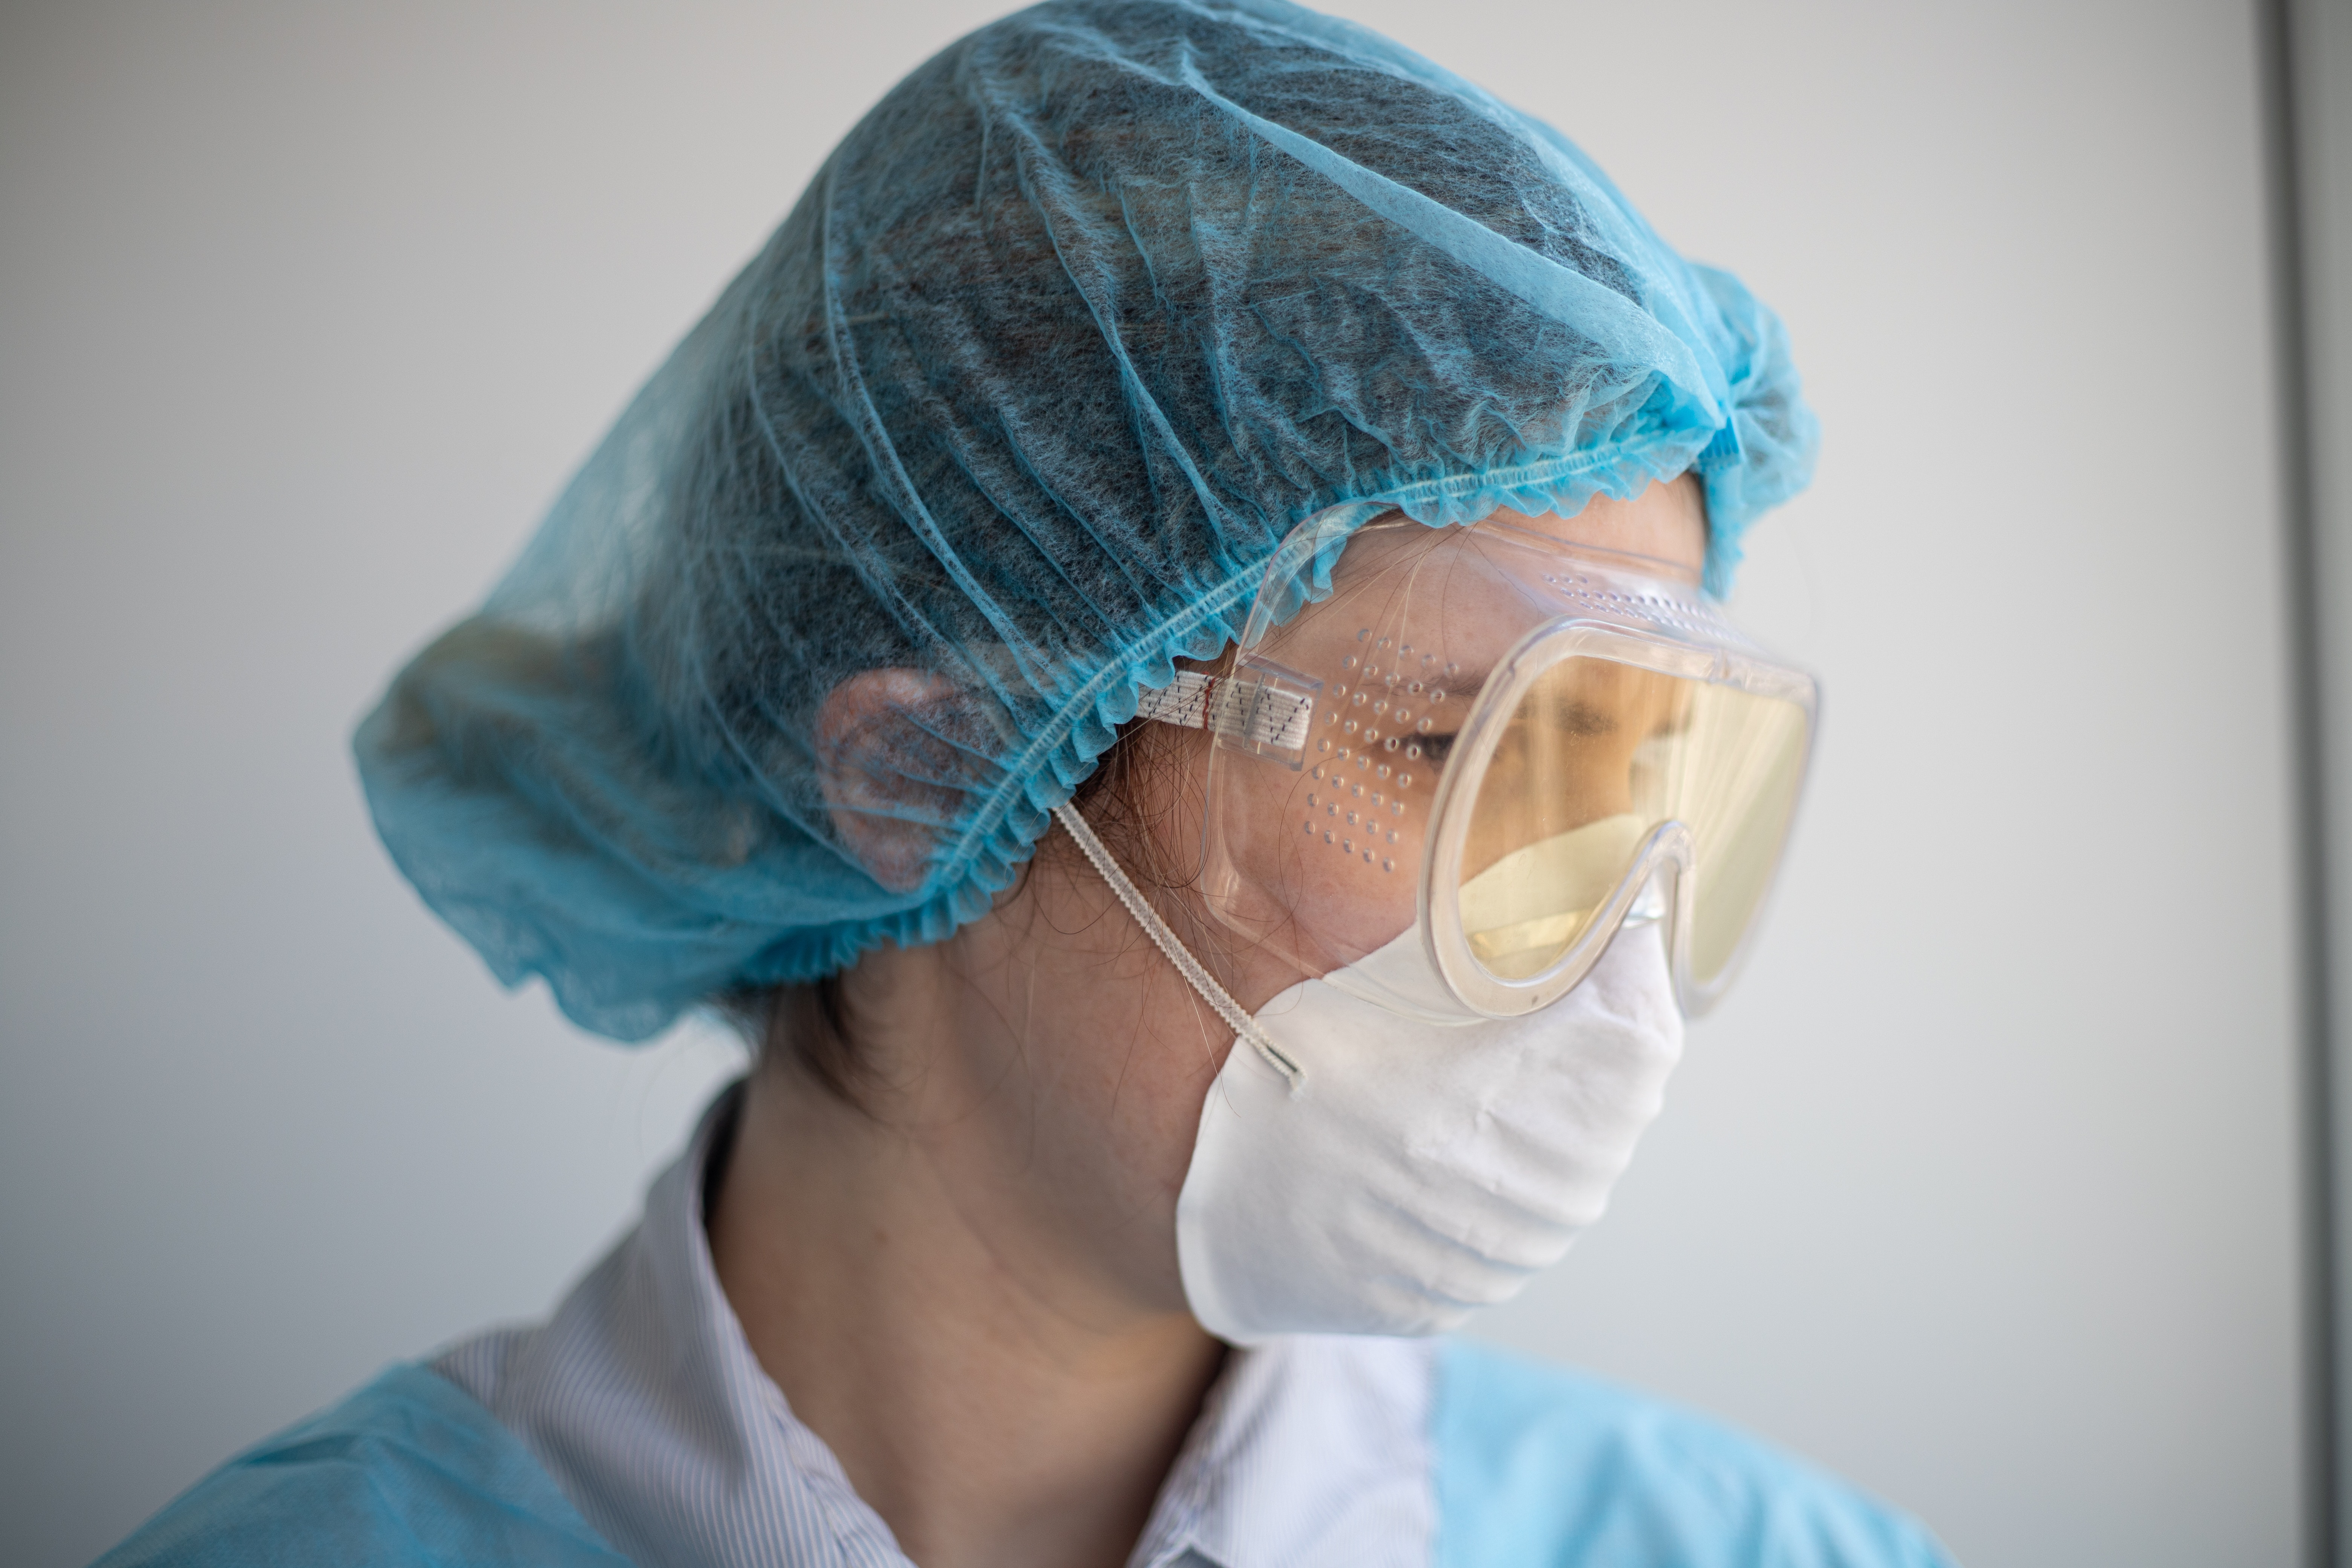with_mask: (719, 72, 1836, 1403)
